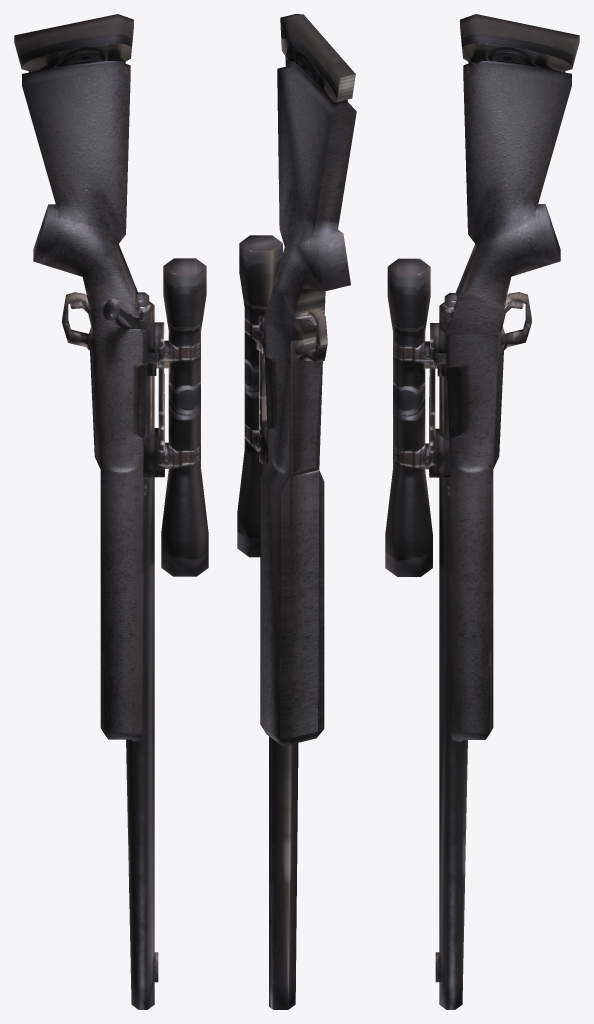
Rendered from w_sniper_rifle.glb.
The picture shows the model from 3 angles, left to right: view 1: azimuth 90°, elevation 25°; view 2: azimuth 210°, elevation 25°; view 3: azimuth 270°, elevation 25°; orthographic projection.
Parts seen in each view (by area): view 1: Cube; view 2: Cube; view 3: Cube.
Part boxes in pixels (x1,y1,x2,y2): Cube: [14, 14, 208, 1009]; Cube: [237, 14, 356, 1009]; Cube: [385, 14, 579, 1009].
Size of the model in its own units: 0.2236 by 4.91 by 0.8764.
Materials: 1 (1 with a texture image).
